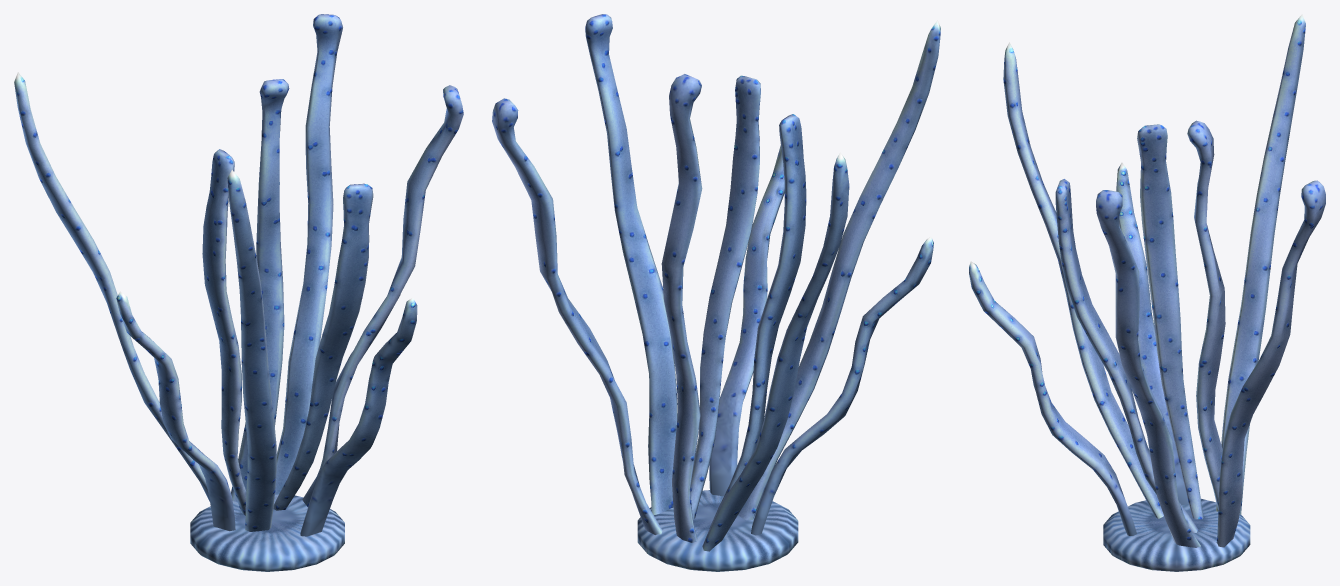
The model's file is PlantSeaweed01_2.FBX.
3 views of the same model, side by side, from view 1: azimuth 30°, elevation 25°; view 2: azimuth 150°, elevation 25°; view 3: azimuth 270°, elevation 25° (orthographic). The views are drawn at different scales.
Visible parts, largest first — view 1: PlantSeaweed01_2; view 2: PlantSeaweed01_2; view 3: PlantSeaweed01_2.
Part boxes in pixels (left/top/right/bottom): PlantSeaweed01_2: left=14, top=14, right=463, bottom=571; PlantSeaweed01_2: left=492, top=14, right=940, bottom=571; PlantSeaweed01_2: left=969, top=14, right=1325, bottom=571.
Size of what is drawn, in the model's own units: 0.5682 by 0.727 by 0.5303.
